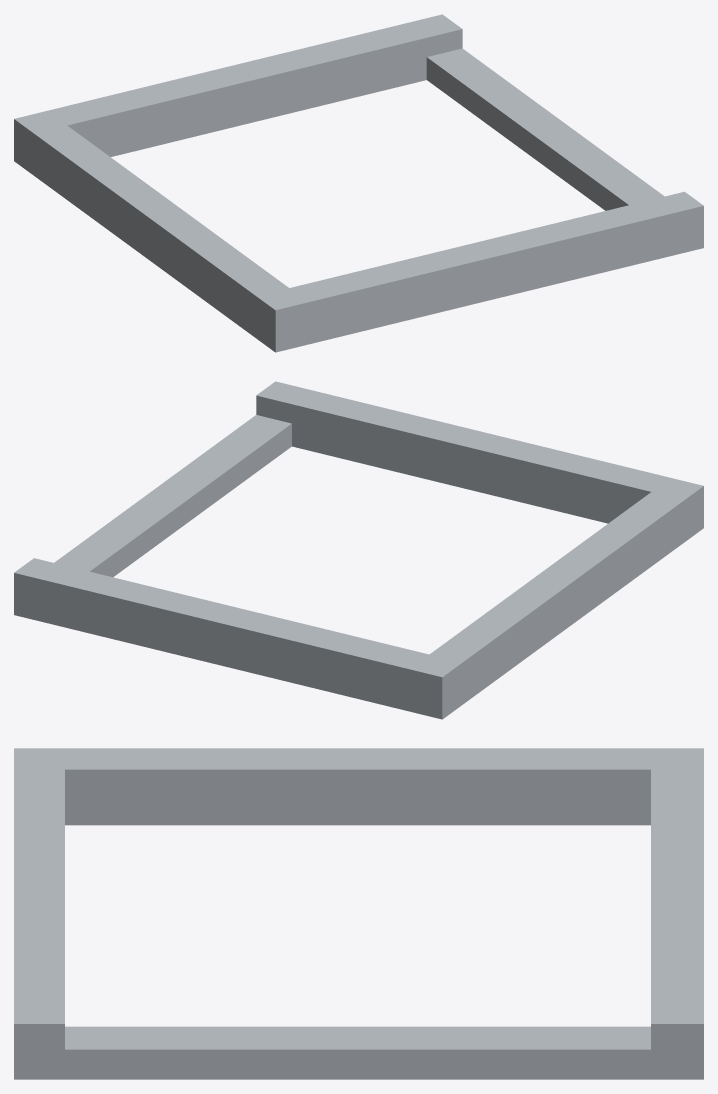
The model's file is GardenMap.obj.
3 renders of one model, top to bottom at view 1: azimuth 30°, elevation 25°; view 2: azimuth 150°, elevation 25°; view 3: azimuth 270°, elevation 25°, orthographic. The views are drawn at different scales.
Parts seen in each view (by area): view 1: Cube; view 2: Cube; view 3: Cube.
Part boxes in pixels (left/top/right/bottom): Cube: left=14, top=14, right=703, bottom=352; Cube: left=14, top=381, right=703, bottom=719; Cube: left=14, top=748, right=703, bottom=1079.
Size of the model in its own units: 16.54 by 1.56 by 17.49.
1 material, 1 textured.
